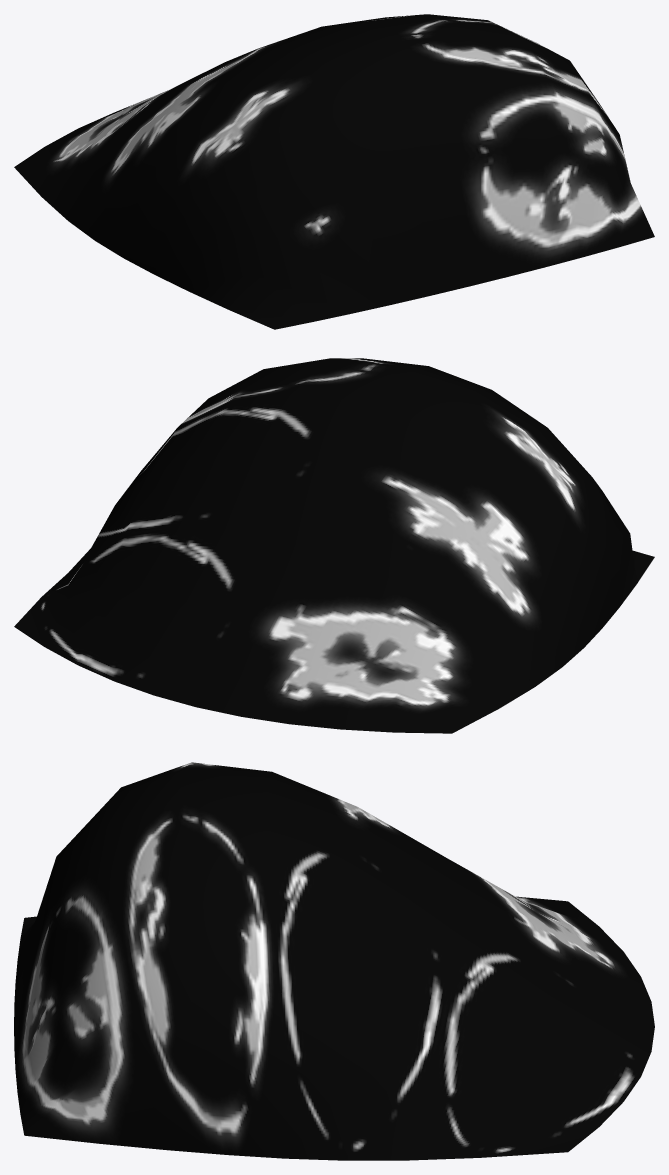
The model's file is 0261_common_wave_z03.glb.
The picture shows the model from 3 angles, top to bottom: view 1: azimuth 30°, elevation 25°; view 2: azimuth 150°, elevation 25°; view 3: azimuth 270°, elevation 25°; orthographic projection. The views are drawn at different scales.
Bounding box in the file's own units: 2.17 × 0.857 × 2.2.
Materials: 1 (1 with a texture image).
